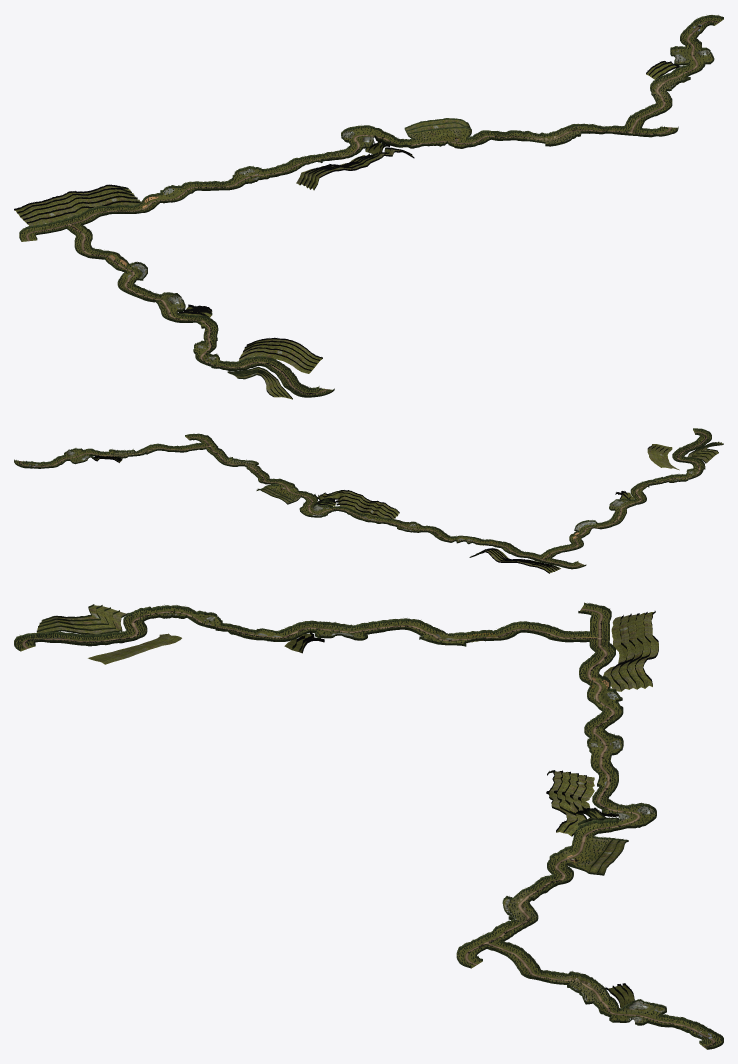
Rendered from russia_stage4_visual.glb.
3 renders of one model, top to bottom at view 1: azimuth 30°, elevation 25°; view 2: azimuth 150°, elevation 25°; view 3: azimuth 270°, elevation 25°, orthographic. The views are drawn at different scales.
Parts seen in each view (by area): view 1: Track_Road_And_Terrain, Foliage_And_Vegetation; view 2: Track_Road_And_Terrain, Foliage_And_Vegetation; view 3: Track_Road_And_Terrain, Foliage_And_Vegetation.
Part boxes in pixels (bbox=[...]): Track_Road_And_Terrain: bbox=[14, 15, 723, 399]; Foliage_And_Vegetation: bbox=[14, 16, 722, 399]; Track_Road_And_Terrain: bbox=[14, 428, 722, 573]; Foliage_And_Vegetation: bbox=[14, 429, 723, 573]; Track_Road_And_Terrain: bbox=[14, 602, 723, 1049]; Foliage_And_Vegetation: bbox=[14, 604, 723, 1048].
Bounding box in the file's own units: 3196 × 85.42 × 2146.
Materials: 84 (84 with a texture image).
